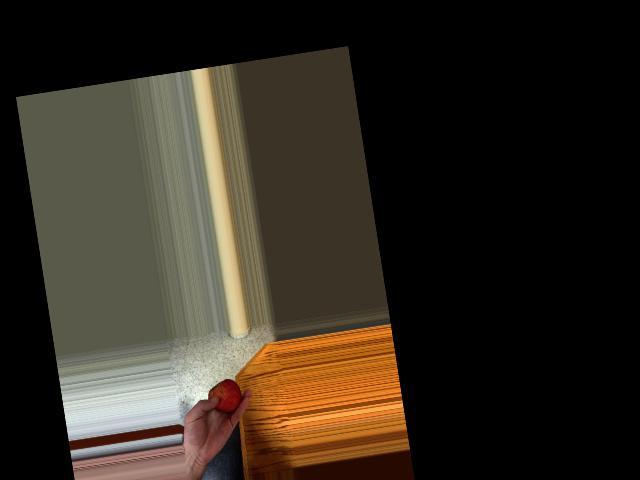apple: (201, 375, 244, 418)
